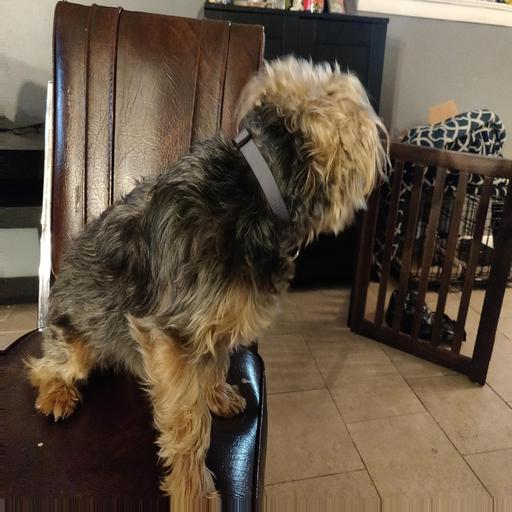dog: (78, 70, 380, 372)
